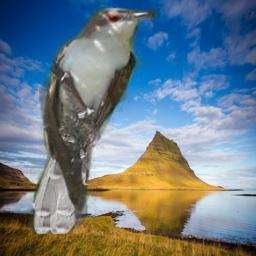Cuckoo: (28, 5, 158, 234)
